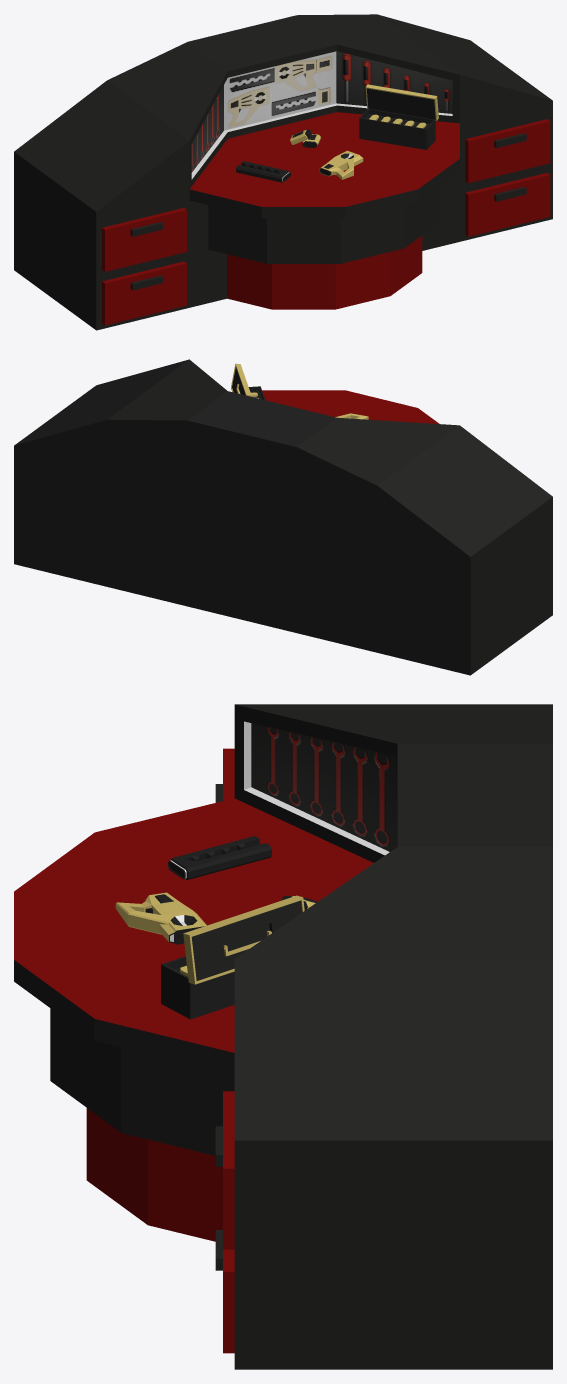
The model's file is Armory_Station.fbx.
3 views of the same model, one above another, from view 1: azimuth 30°, elevation 25°; view 2: azimuth 150°, elevation 25°; view 3: azimuth 270°, elevation 25° (orthographic). The views are drawn at different scales.
Parts seen in each view (by area): view 1: Armory_Station; view 2: Armory_Station; view 3: Armory_Station.
Boxes of the visible parts, x1,y1,x2,y2 form: Armory_Station: (14, 14, 552, 330); Armory_Station: (14, 359, 552, 675); Armory_Station: (14, 704, 552, 1369).
Size of the model in its own units: 5.61 by 2.97 by 2.19.
